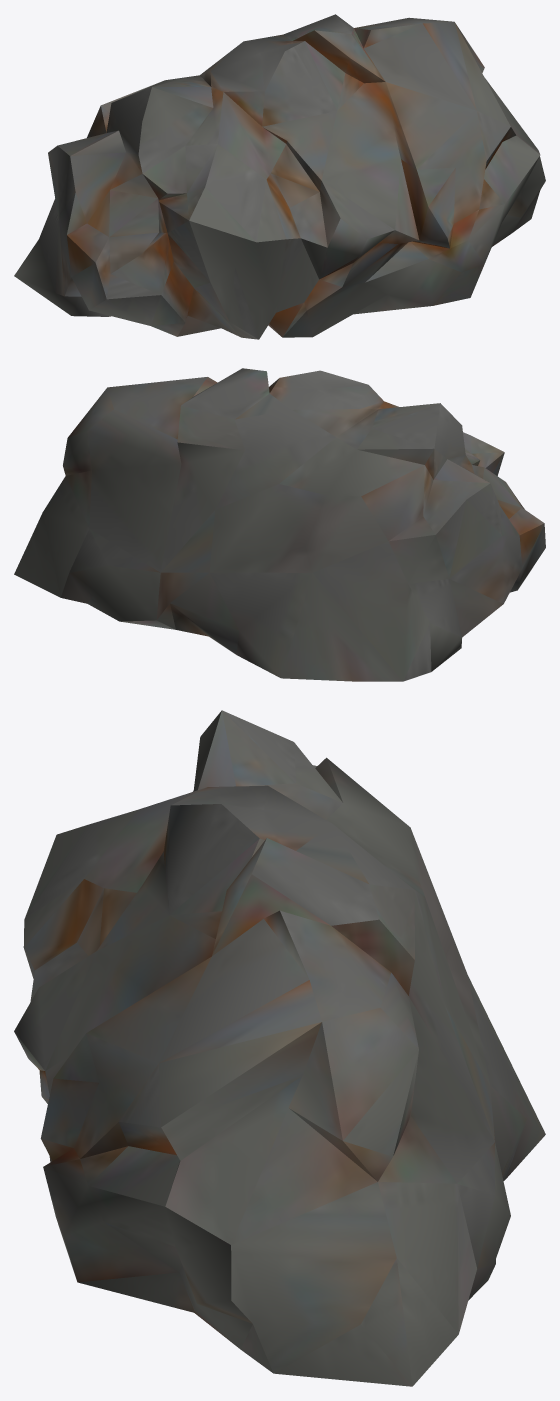
The model's file is resource_iron_ore_2.glb.
The picture shows the model from 3 angles, top to bottom: view 1: azimuth 30°, elevation 25°; view 2: azimuth 150°, elevation 25°; view 3: azimuth 270°, elevation 25°; orthographic projection. The views are drawn at different scales.
Parts seen in each view (by area): view 1: MeshyGear_resource_iron_ore; view 2: MeshyGear_resource_iron_ore; view 3: MeshyGear_resource_iron_ore.
Part boxes in pixels (x1=…): MeshyGear_resource_iron_ore: x1=14, y1=14, x2=545, y2=339; MeshyGear_resource_iron_ore: x1=14, y1=368, x2=545, y2=681; MeshyGear_resource_iron_ore: x1=14, y1=710, x2=545, y2=1386.
Size of what is drawn, in the model's own units: 2.19 by 1.05 by 1.34.
1 material, 1 textured.
